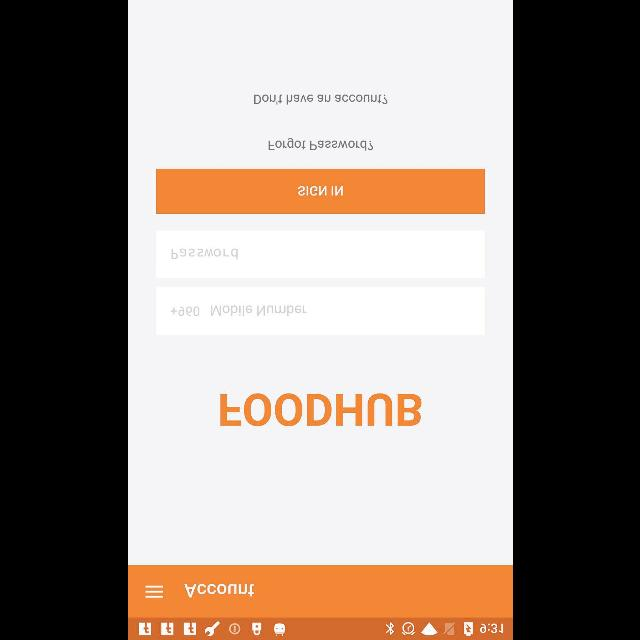icon: (144, 584, 162, 598)
input: (154, 229, 483, 277), (154, 287, 483, 335)
text: (220, 394, 420, 426), (254, 94, 386, 105), (268, 138, 372, 150), (183, 583, 253, 597), (210, 306, 306, 316), (171, 248, 237, 260), (171, 306, 199, 316)
textbutton: (156, 168, 484, 214)
toolbar: (128, 565, 512, 617)
uppertaskbar: (128, 617, 512, 639)
